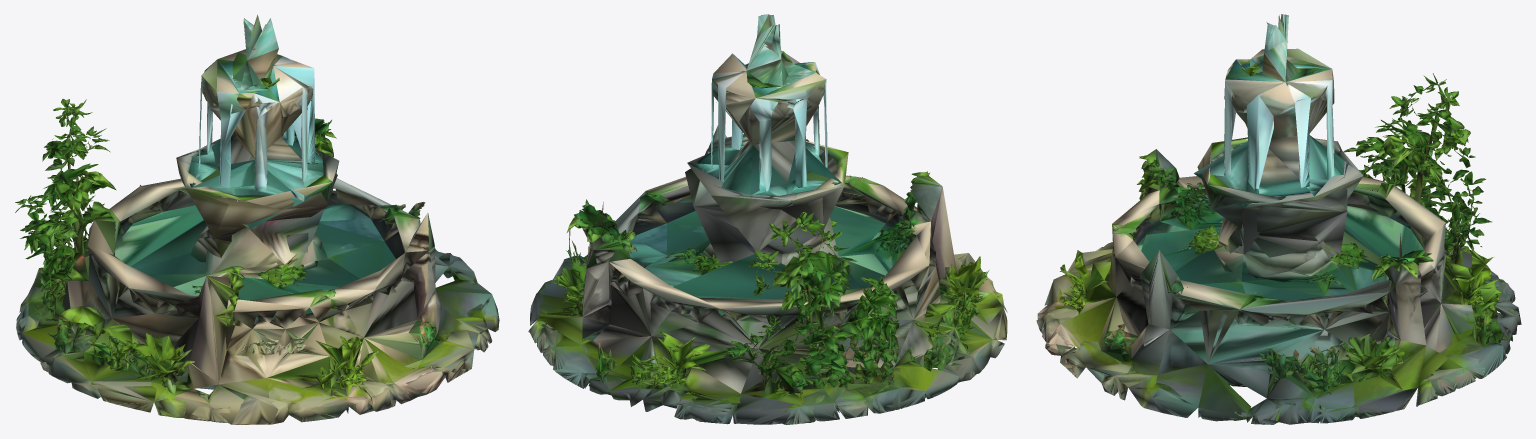
The model's file is Verdant_Cascade_Fount.glb.
3 renders of one model, left to right at view 1: azimuth 30°, elevation 25°; view 2: azimuth 150°, elevation 25°; view 3: azimuth 270°, elevation 25°, orthographic.
Visible parts, largest first — view 1: Verdant_Cascade_Fount; view 2: Verdant_Cascade_Fount; view 3: Verdant_Cascade_Fount.
Boxes of the visible parts, bbox=[...] form: Verdant_Cascade_Fount: bbox=[15, 14, 499, 424]; Verdant_Cascade_Fount: bbox=[528, 14, 1007, 424]; Verdant_Cascade_Fount: bbox=[1036, 14, 1521, 424].
Size of the model in its own units: 1.89 by 1.36 by 1.9.
Materials: 1 (1 with a texture image).
